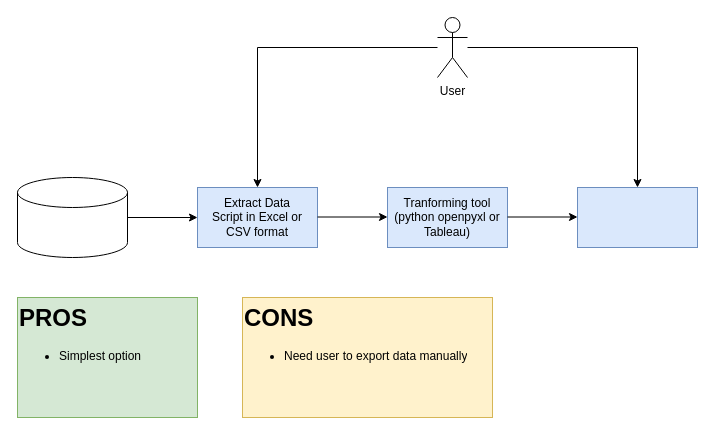
This 715x438 diagram has some shape labels left out. Here are the shapes that lost their labels. From the top down, the centre of each, then its label:
At [72,217]: "Jane Website".
At [637,217]: "Dashboard".
